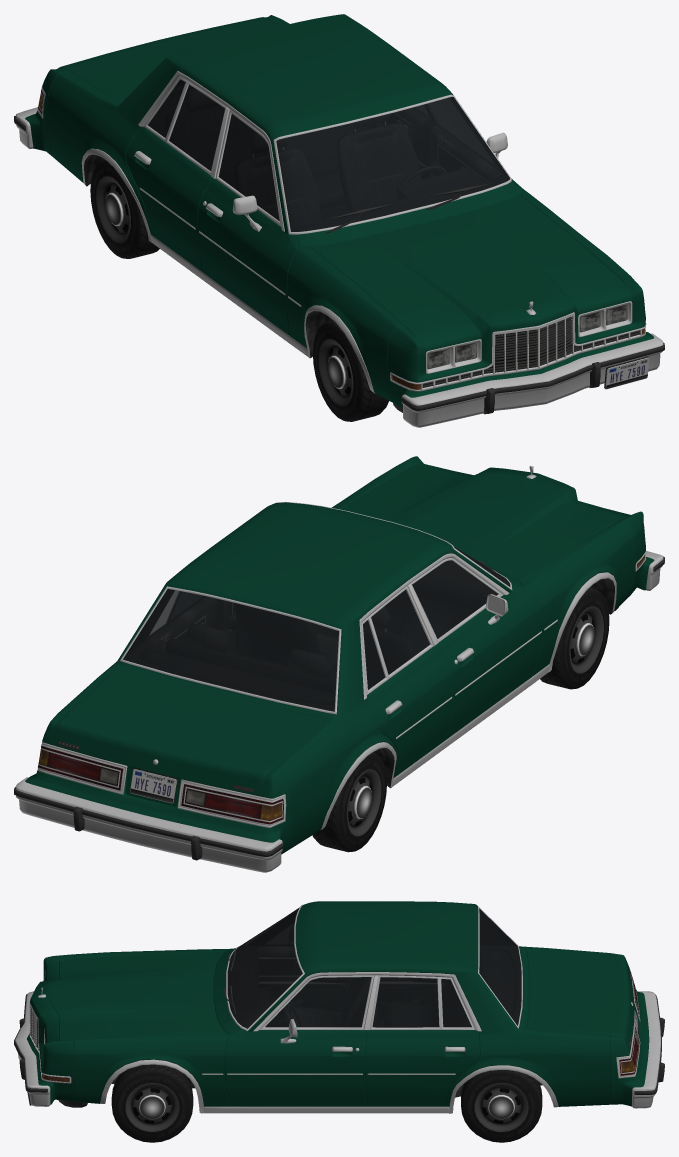
Rendered from negotiator-80-low-poly-model-892b26.glb.
3 renders of one model, top to bottom at view 1: azimuth 30°, elevation 25°; view 2: azimuth 150°, elevation 25°; view 3: azimuth 270°, elevation 25°, orthographic. The views are drawn at different scales.
Visible parts, largest first — view 1: body, wheel-front-right, wheel-back-right; view 2: body, wheel-back-right, wheel-front-right, wheel-back-left; view 3: body, wheel-front-left, wheel-back-left.
Boxes of the visible parts, box(x1,y1,x2,y2) form: body: box(14, 14, 664, 427); wheel-front-right: box(312, 320, 388, 421); wheel-back-right: box(90, 159, 159, 258); body: box(14, 456, 664, 872); wheel-back-right: box(204, 752, 386, 852); wheel-front-right: box(540, 587, 609, 689); wheel-back-left: box(48, 753, 99, 780); body: box(14, 901, 664, 1113); wheel-front-left: box(111, 1064, 193, 1142); wheel-back-left: box(461, 1038, 637, 1142).
Bounding box in the file's own units: 1.87 × 1.39 × 4.94.
Materials: 8 (7 with a texture image).
